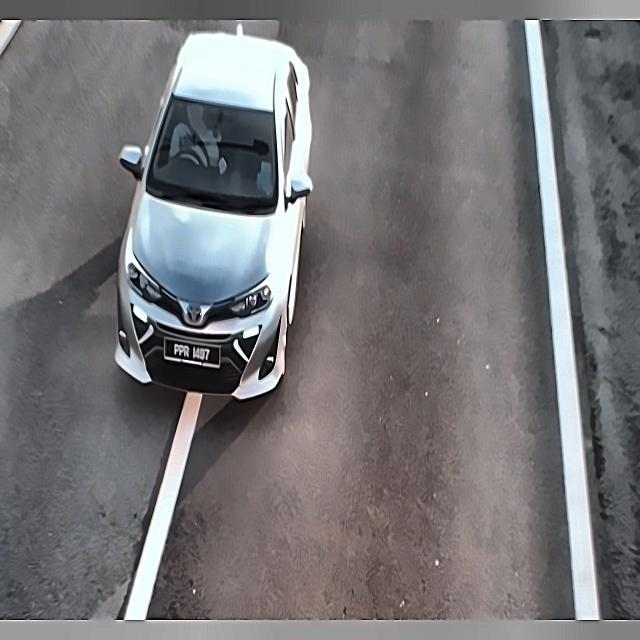car: (161, 330, 222, 370)
